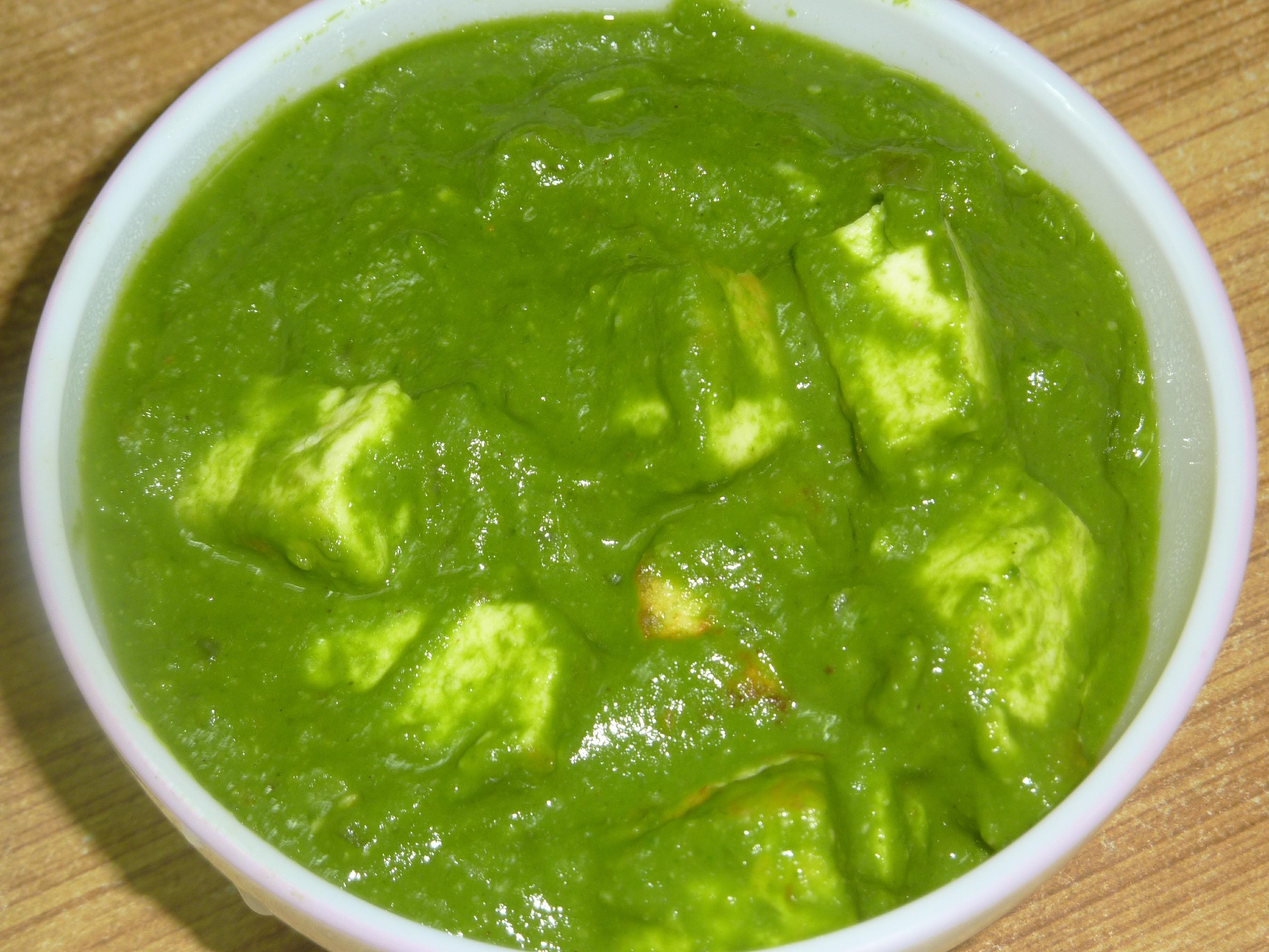PalakPaneer: (74, 10, 1154, 935)
